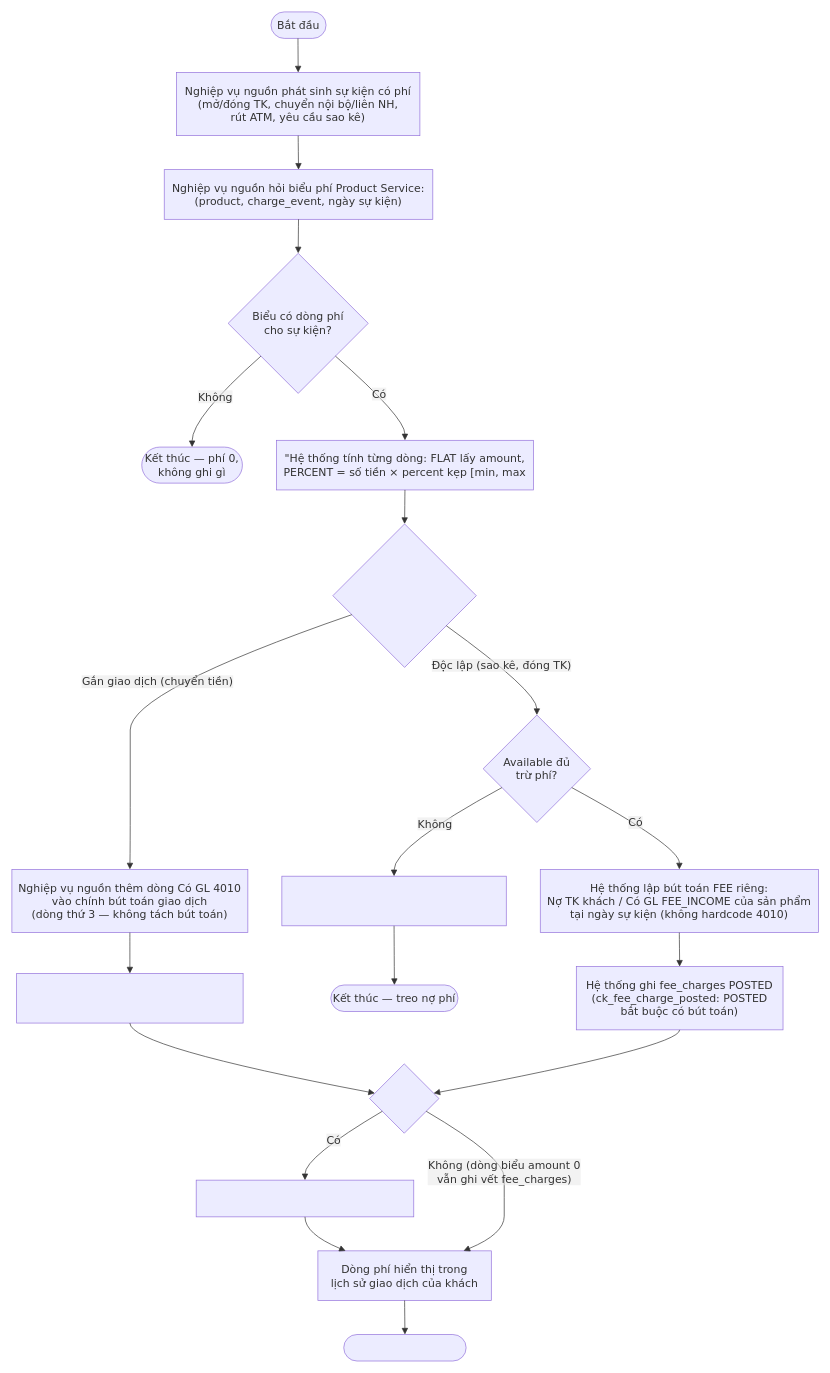
Some shapes in this 830 by 1373 pixel diagram are drawn without their labels. Each missing label, with the box of its shape:
Hệ thống ghi fee_charges PENDING (nợ phí) — job EOD thu lại khi có tiền: (281, 876, 506, 926)
Hệ thống ghi fee_charges POSTED cùng transaction, source trỏ giao dịch: (16, 973, 243, 1023)
Hệ thống ghi outbox fee.charged.v1: (196, 1179, 414, 1217)
Kết thúc — đã thu phí: (343, 1334, 466, 1361)
Phí > 0?: (369, 1063, 439, 1133)
Phí gắn giao dịch hay độc lập?: (332, 523, 476, 667)
